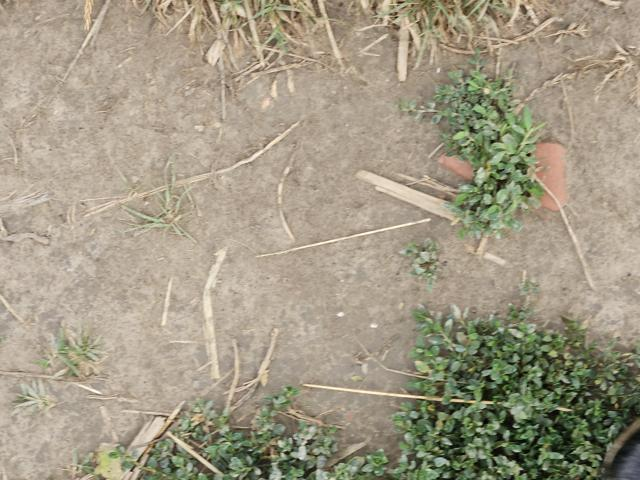bad weed: (408, 304, 630, 480), (132, 9, 595, 62), (425, 65, 542, 241), (107, 406, 372, 480), (12, 326, 105, 399), (121, 169, 189, 241), (399, 242, 453, 278)
